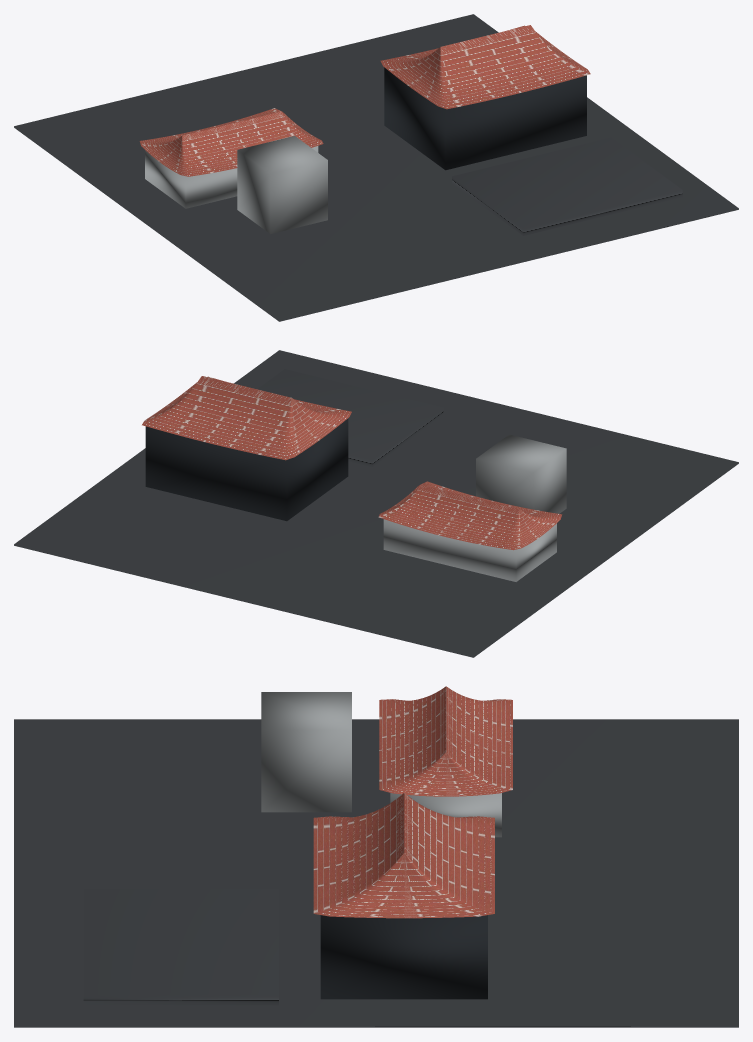
3 views of the same model, one above another, from view 1: azimuth 30°, elevation 25°; view 2: azimuth 150°, elevation 25°; view 3: azimuth 270°, elevation 25° (orthographic). The views are drawn at different scales.
Visible parts, largest first — view 1: ground_simplified, park_simplified, leesang_simplified; view 2: ground_simplified, park_simplified, leesang_simplified; view 3: ground_simplified, park_simplified, leesang_simplified.
Part boxes in pixels (x1,y1,x2,y2): ground_simplified: (14, 14, 738, 321); park_simplified: (380, 25, 682, 235); leesang_simplified: (139, 108, 327, 234); ground_simplified: (14, 350, 738, 657); park_simplified: (142, 369, 443, 521); leesang_simplified: (378, 434, 566, 581); ground_simplified: (14, 719, 738, 1027); park_simplified: (83, 793, 494, 1005); leesang_simplified: (261, 686, 512, 837).
Bounding box in the file's own units: 52 × 10.4 × 52.
Materials: 3 (3 with a texture image).
